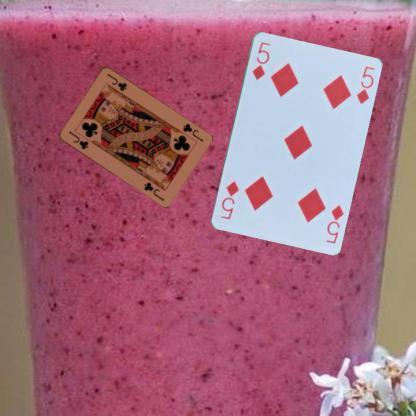5d: (249, 39, 272, 81), (323, 202, 345, 244)
Jc: (180, 120, 204, 144), (66, 129, 90, 151)
